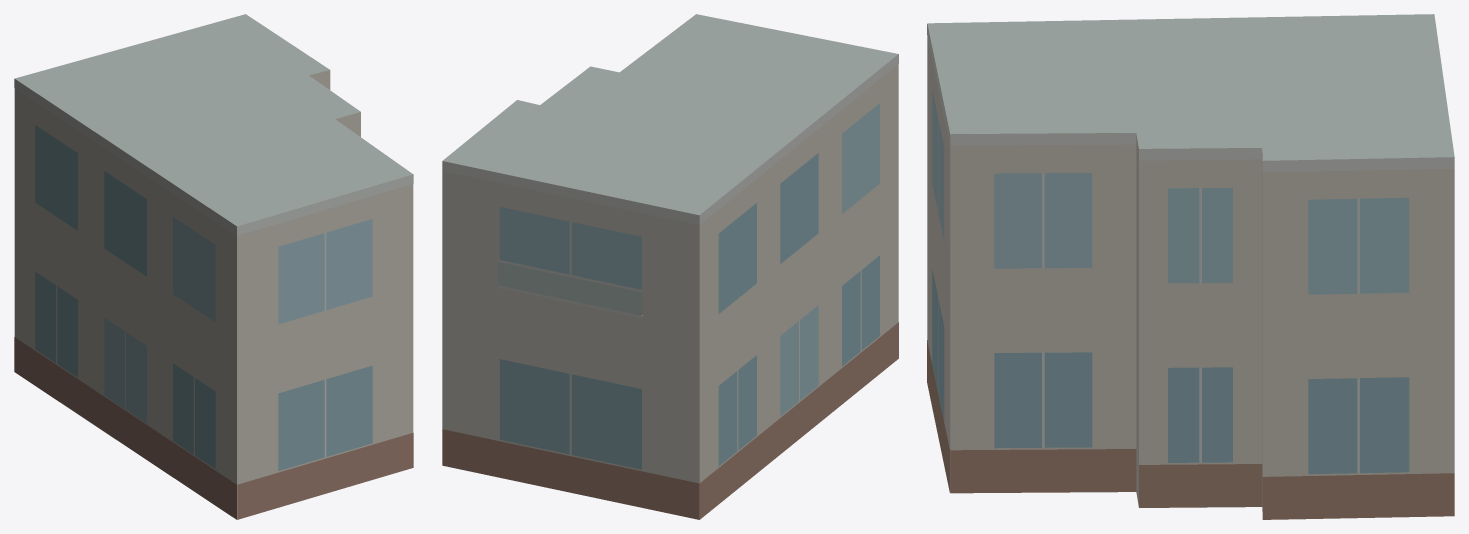
File: survey-upis-32637757.glb
The picture shows the model from 3 angles, left to right: view 1: azimuth 30°, elevation 25°; view 2: azimuth 150°, elevation 25°; view 3: azimuth 270°, elevation 25°; orthographic projection. The views are drawn at different scales.
Visible parts, largest first — view 1: survey-upis-32637757.tmp; view 2: survey-upis-32637757.tmp; view 3: survey-upis-32637757.tmp.
Part boxes in pixels (box(x1,y1,x2,y2)): survey-upis-32637757.tmp: box(14, 14, 413, 519); survey-upis-32637757.tmp: box(442, 14, 898, 519); survey-upis-32637757.tmp: box(927, 14, 1454, 519).
Bounding box in the file's own units: 6.67 × 7.6 × 10.13.
